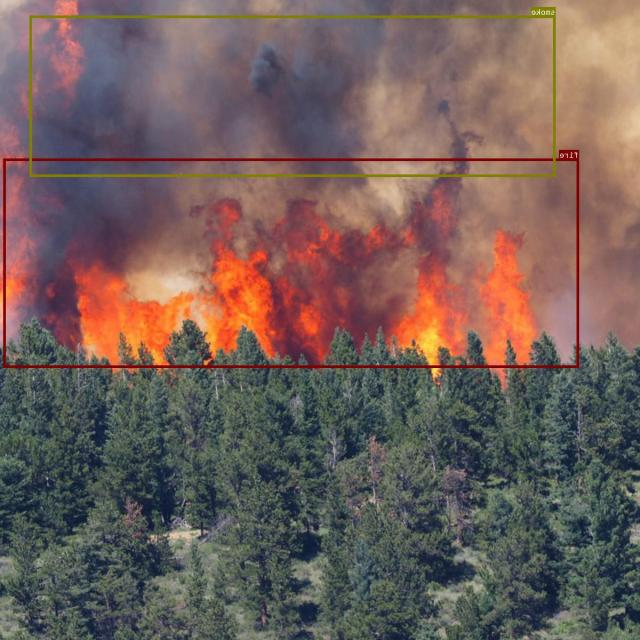fire: (4, 158, 580, 367)
smoke: (31, 15, 556, 176)
